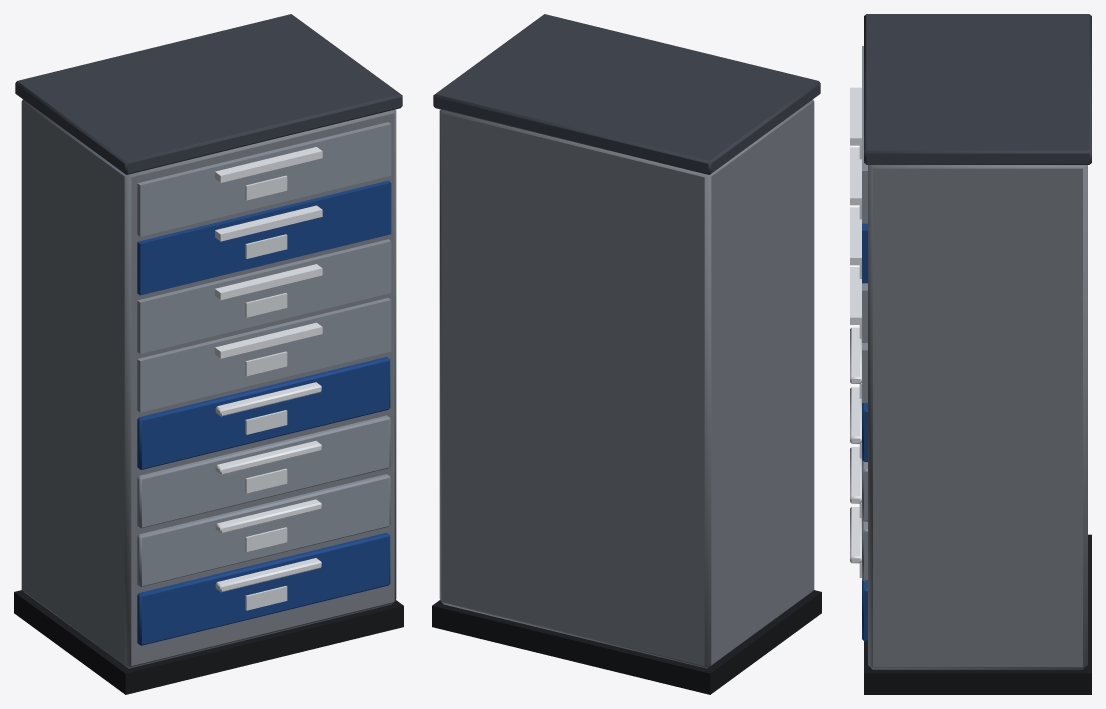
The model's file is storagebin_drawer_cabinet.glb.
3 renders of one model, left to right at view 1: azimuth 30°, elevation 25°; view 2: azimuth 150°, elevation 25°; view 3: azimuth 270°, elevation 25°, orthographic. The views are drawn at different scales.
Visible parts, largest first — view 1: storagebin_drawer_cabinet; view 2: storagebin_drawer_cabinet; view 3: storagebin_drawer_cabinet.
Boxes of the visible parts, x1,y1,x2,y2 form: storagebin_drawer_cabinet: (14,14,403,694); storagebin_drawer_cabinet: (432,14,821,694); storagebin_drawer_cabinet: (850,14,1091,694).
Bounding box in the file's own units: 0.82 × 1.5 × 0.605.
